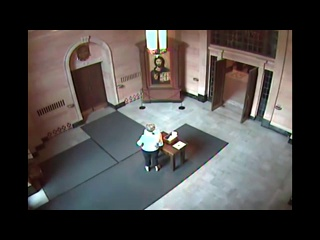Vandalism: (136, 122, 164, 172)
